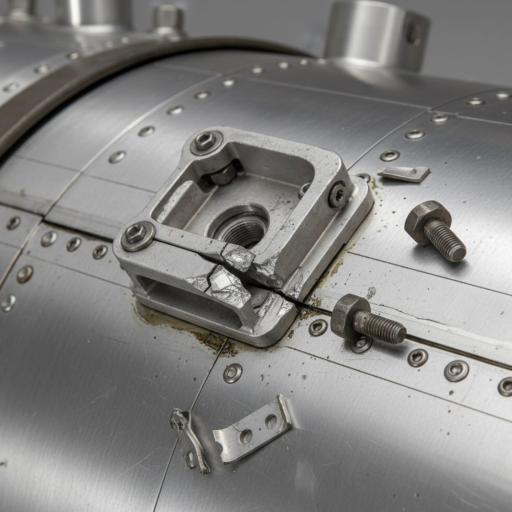fastening crack: (176, 244, 298, 345)
lack of details: (184, 175, 286, 251)
